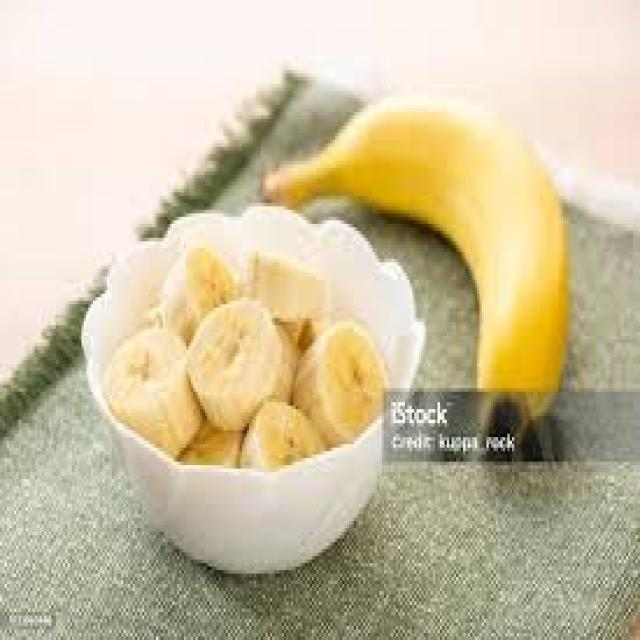pisang: (286, 79, 578, 452), (98, 226, 394, 486)
